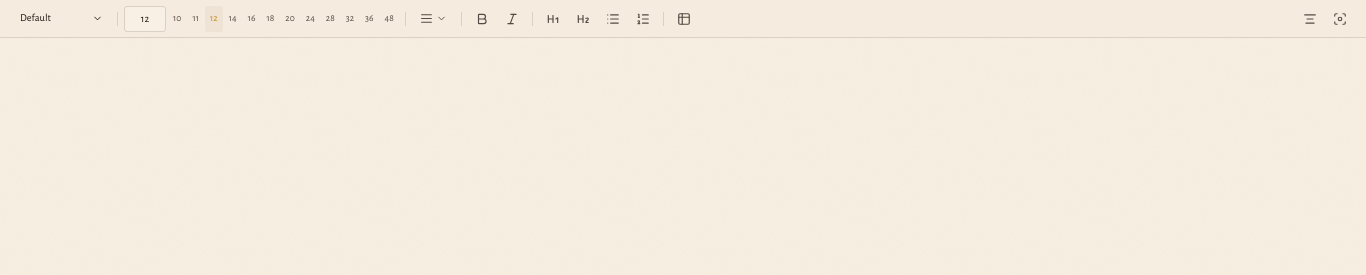
EditorToolbar › clicking line height button opens dropdown
Step 1. Click the button titled "Line spacing" → (433, 18), box [412,6,455,32]
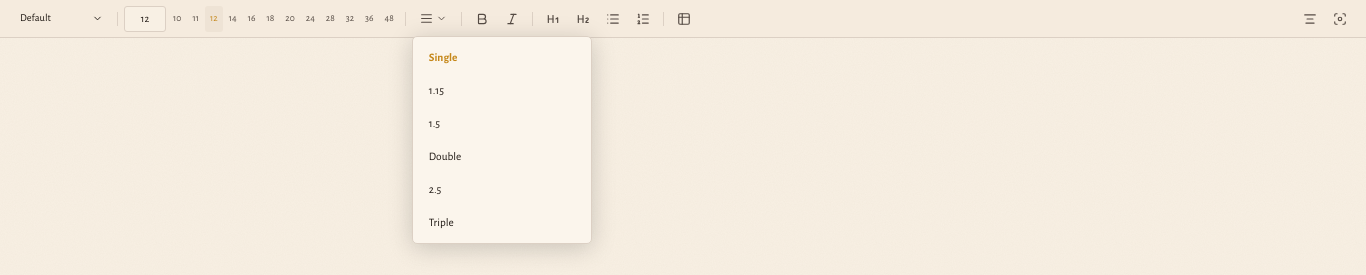
Result: the button "Single" is shown at [417,40,587,74]
Result: the button "Double" is shown at [417,140,587,173]
